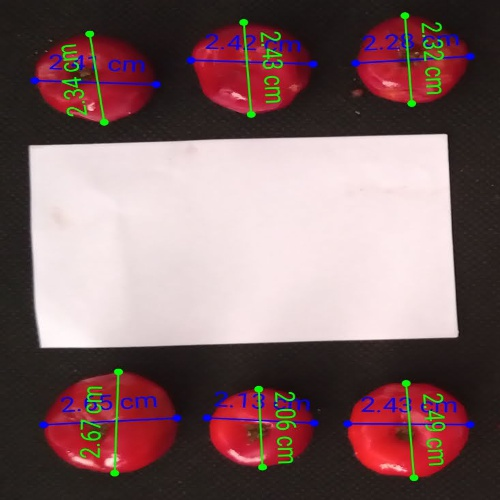acerola: (44, 374, 176, 473), (348, 384, 468, 477), (192, 24, 310, 114), (36, 36, 157, 122), (357, 15, 468, 103), (208, 389, 312, 467)
cartao: (27, 145, 448, 350)
